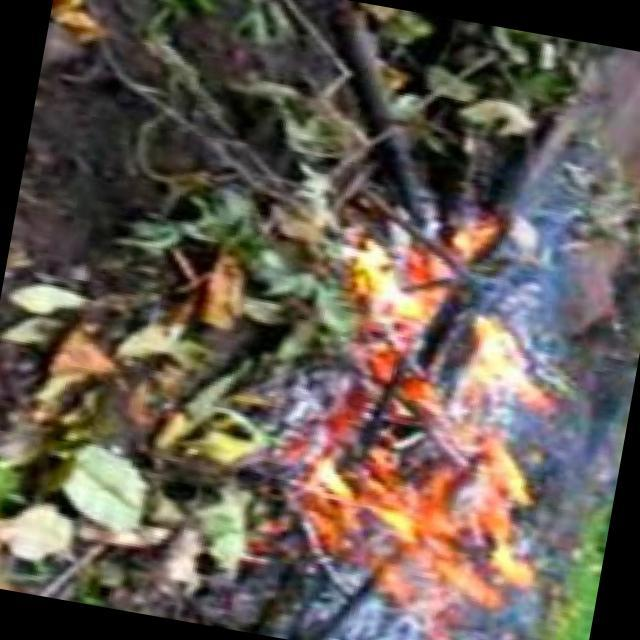Fire: (314, 236, 588, 630)
